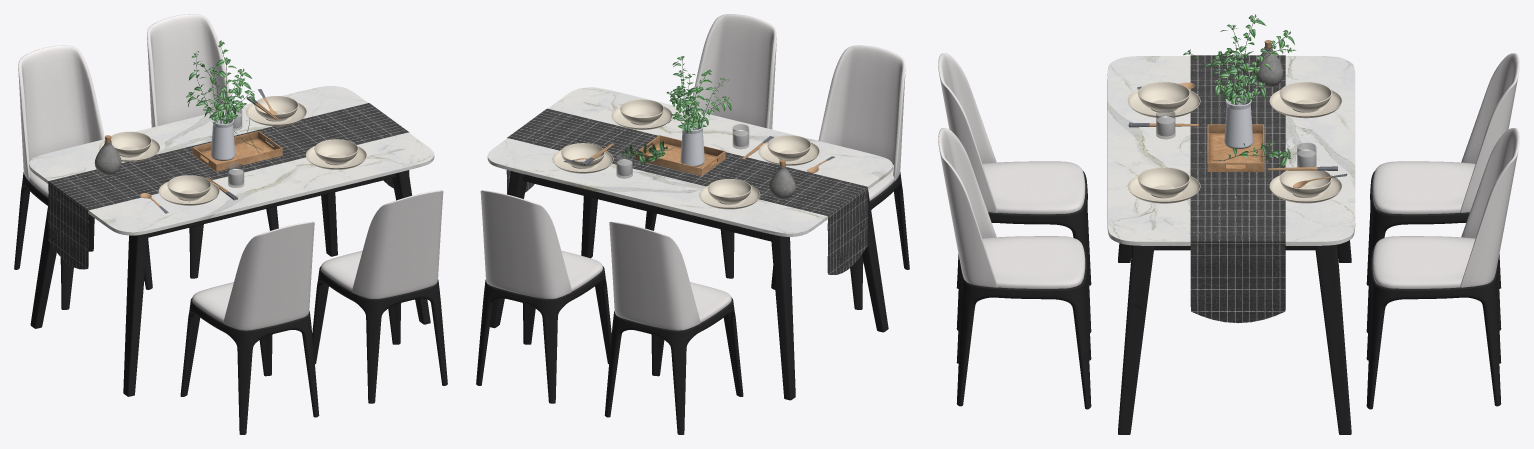
The model's file is simple_dining_table-v1.glb.
3 views of the same model, side by side, from view 1: azimuth 30°, elevation 25°; view 2: azimuth 150°, elevation 25°; view 3: azimuth 270°, elevation 25° (orthographic). The views are drawn at different scales.
Parts seen in each view (by area): view 1: zhuoyi_6, bu_8, qita_2, lvzhi_4; view 2: zhuoyi_6, bu_8, qita_2, lvzhi_4, Cylinder003_14; view 3: zhuoyi_6, bu_8, qita_2, lvzhi_4, Cylinder003_14.
Part boxes in pixels (box(x1,y1,x2,y2)): zhuoyi_6: box(14, 14, 447, 434); bu_8: box(48, 103, 409, 269); qita_2: box(94, 46, 366, 213); lvzhi_4: box(186, 40, 254, 138); zhuoyi_6: box(476, 14, 909, 434); bu_8: box(506, 108, 867, 274); qita_2: box(552, 59, 834, 209); lvzhi_4: box(621, 56, 731, 164); Cylinder003_14: box(732, 124, 749, 149); zhuoyi_6: box(938, 53, 1519, 434); bu_8: box(1190, 55, 1285, 323); qita_2: box(1127, 18, 1347, 203); lvzhi_4: box(1183, 14, 1295, 166); Cylinder003_14: box(1156, 109, 1175, 139).
Bounding box in the file's own units: 1505 × 1246 × 1980.
6 materials, 6 textured.
